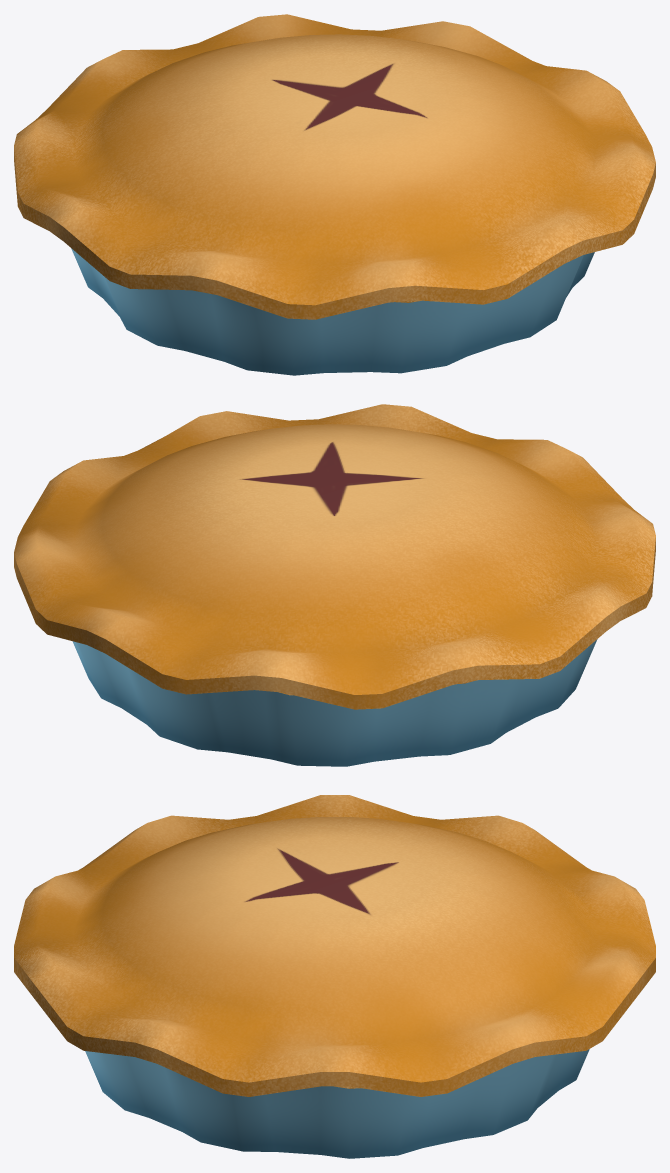
Rendered from pie.fbx.
The picture shows the model from 3 angles, top to bottom: view 1: azimuth 30°, elevation 25°; view 2: azimuth 150°, elevation 25°; view 3: azimuth 270°, elevation 25°; orthographic projection.
Visible parts, largest first — view 1: pie; view 2: pie; view 3: pie.
Boxes of the visible parts, bbox=[...] form: pie: bbox=[14, 14, 655, 375]; pie: bbox=[14, 404, 655, 766]; pie: bbox=[14, 795, 655, 1158].
Bounding box in the file's own units: 6560 × 1987 × 6560.
1 material, 1 textured.
